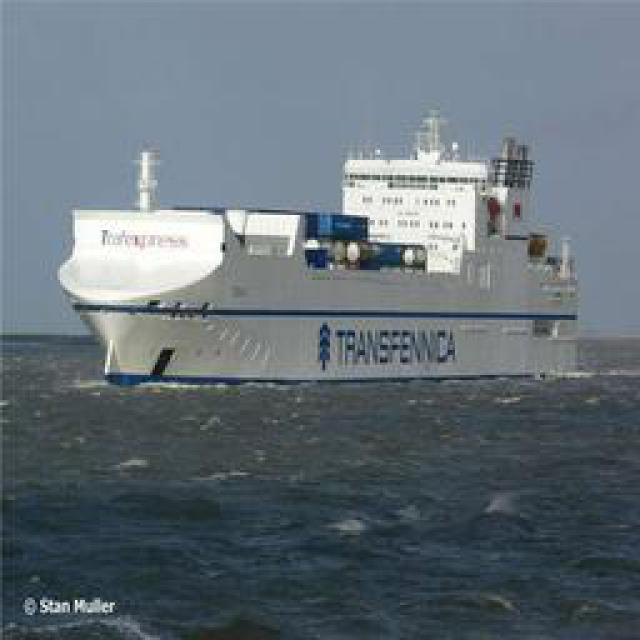Ship: (51, 125, 606, 385)
